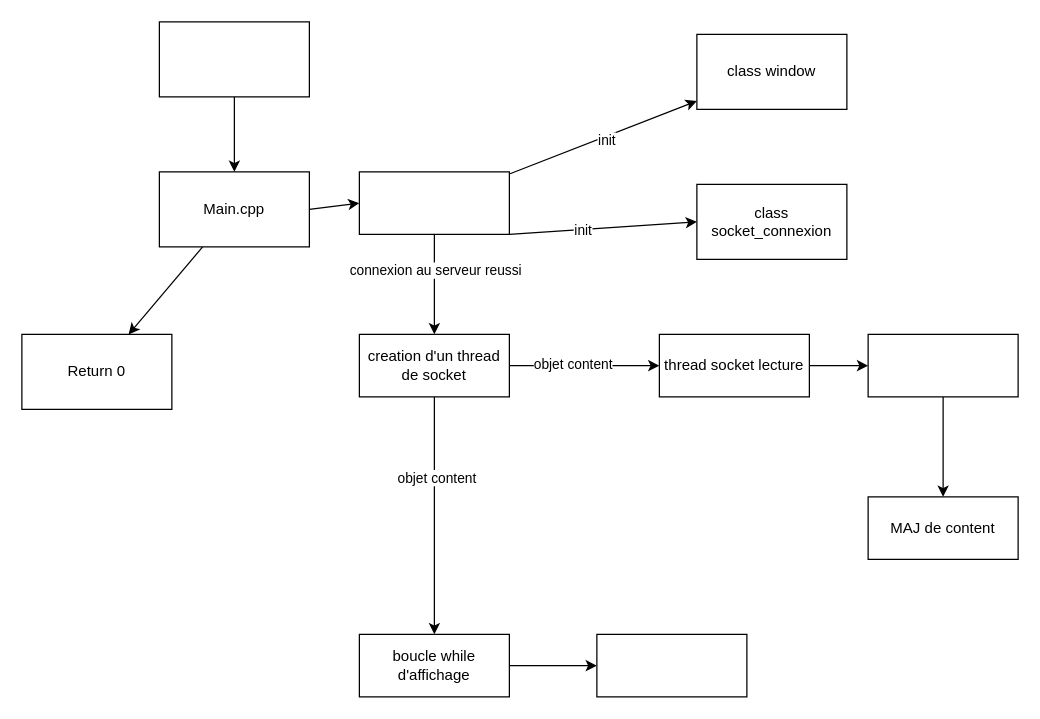
Image size: 1040x719. Some labels were removed from this diagram. Each missing label, with the box of its shape:
./gui [Port] [Adresse]: (158, 21, 309, 97)
envoie des event au serveur: (596, 633, 747, 697)
factory: (867, 333, 1018, 397)
gui: (358, 171, 509, 234)
